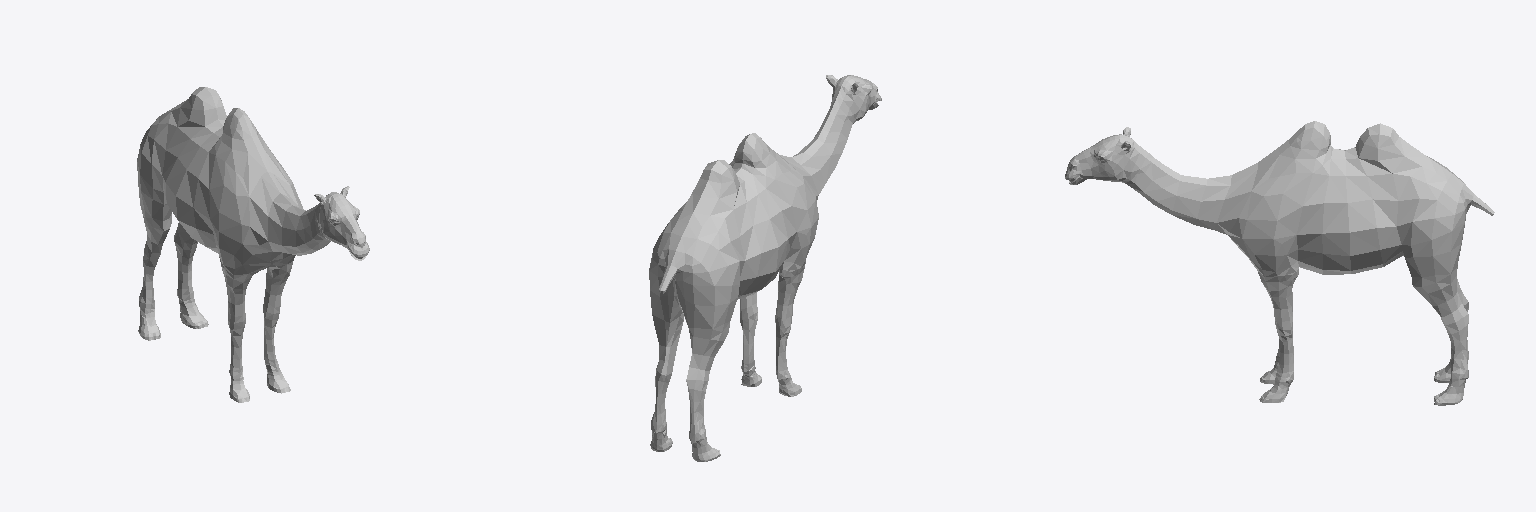
File: camel2.obj
The picture shows the model from 3 angles: view 1: azimuth 30°, elevation 25°; view 2: azimuth 150°, elevation 25°; view 3: azimuth 270°, elevation 25°; orthographic projection.
Visible parts, largest first — view 1: 21473_camel_fme_js; view 2: 21473_camel_fme_js; view 3: 21473_camel_fme_js.
Boxes of the visible parts, box(x1,y1,x2,y2) form: 21473_camel_fme_js: box(137, 87, 369, 402); 21473_camel_fme_js: box(649, 75, 881, 461); 21473_camel_fme_js: box(1065, 121, 1494, 405).
Bounding box in the file's own units: 0.92 × 2.6 × 3.75.